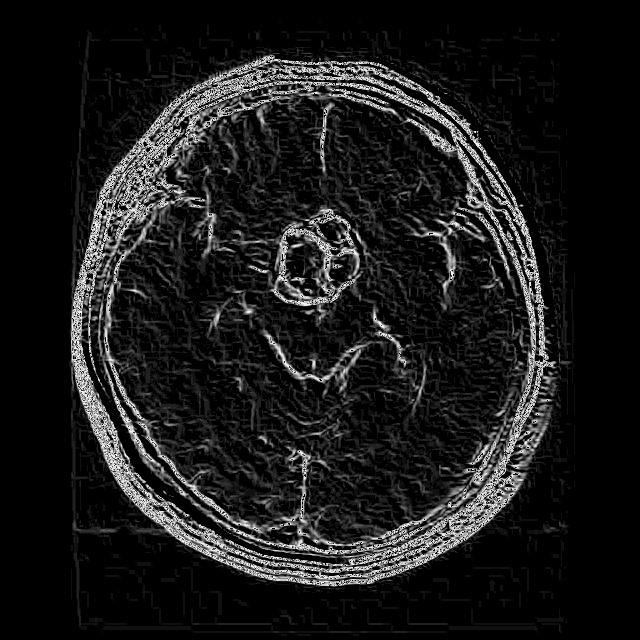Brain-Tumor: (258, 195, 384, 318)
